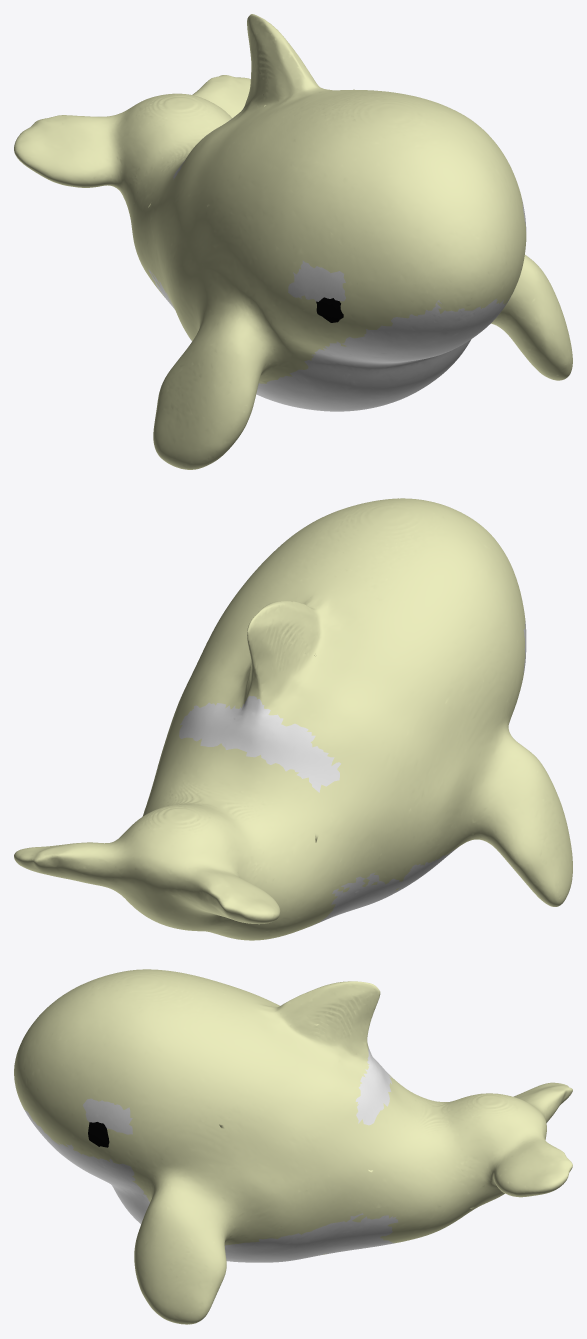
Rendered from shiro-syati.glb.
The picture shows the model from 3 angles, top to bottom: view 1: azimuth 30°, elevation 25°; view 2: azimuth 150°, elevation 25°; view 3: azimuth 270°, elevation 25°; orthographic projection. The views are drawn at different scales.
Parts seen in each view (by area): view 1: Mesh_0; view 2: Mesh_0; view 3: Mesh_0.
Boxes of the visible parts, x1=… form: Mesh_0: x1=14, y1=14, x2=572, y2=469; Mesh_0: x1=14, y1=498, x2=572, y2=940; Mesh_0: x1=14, y1=969, x2=572, y2=1324.
Size of the model in its own units: 1.38 by 1.06 by 2.01.
